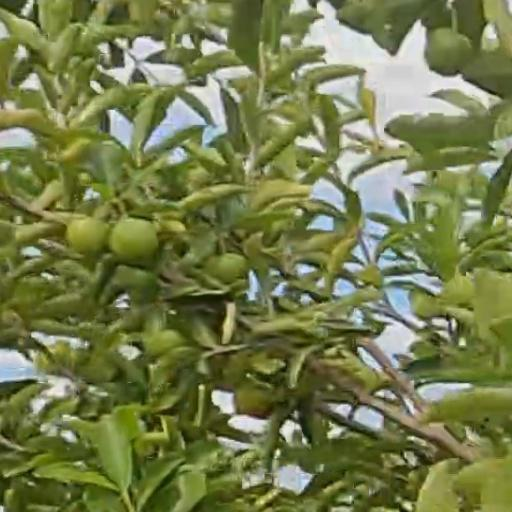acerola_verde: (427, 30, 471, 75), (115, 220, 155, 265), (67, 219, 105, 255)
